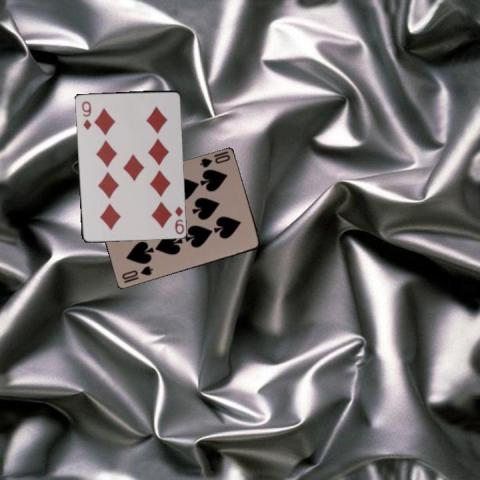10s: (197, 149, 231, 169), (119, 264, 154, 282)
9d: (78, 98, 92, 131), (172, 203, 185, 235)
